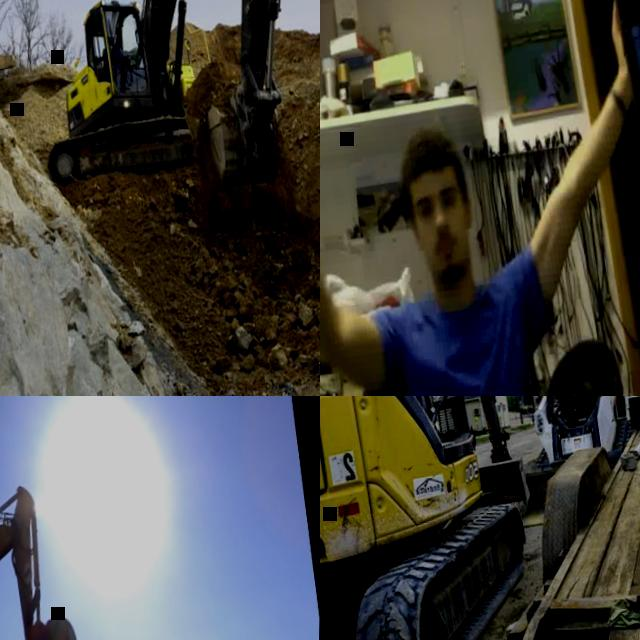machinery: (0, 0, 320, 216), (320, 396, 560, 640), (487, 396, 640, 530), (0, 480, 101, 640)
no_helmet: (397, 128, 458, 188)
no_mask: (426, 230, 472, 284)
no_vest: (388, 292, 543, 396)
person: (320, 0, 640, 396), (101, 38, 121, 70)
